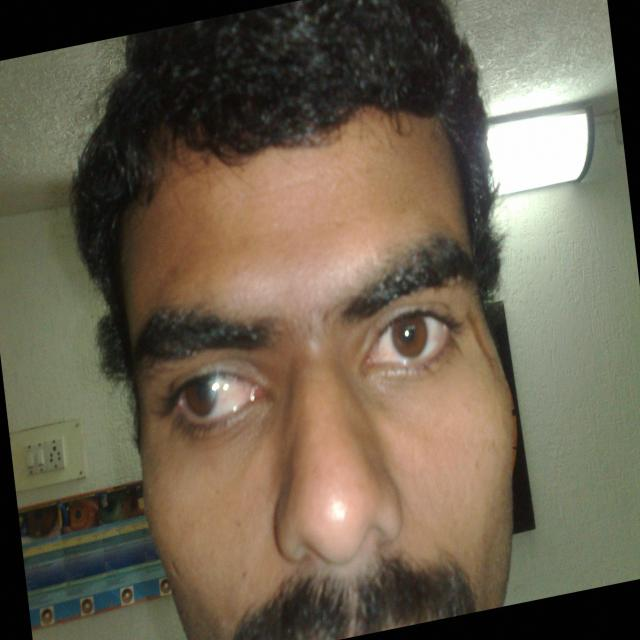Healthy-Eye: (358, 288, 463, 398)
Squint: (159, 337, 273, 456)
